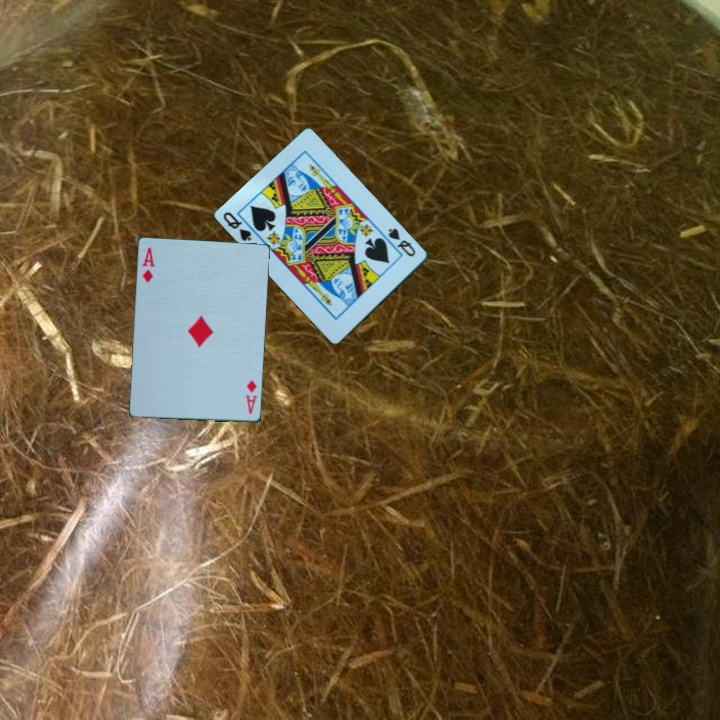Ad: (139, 244, 158, 286), (242, 376, 261, 417)
Qs: (220, 208, 255, 244), (385, 224, 419, 260)
